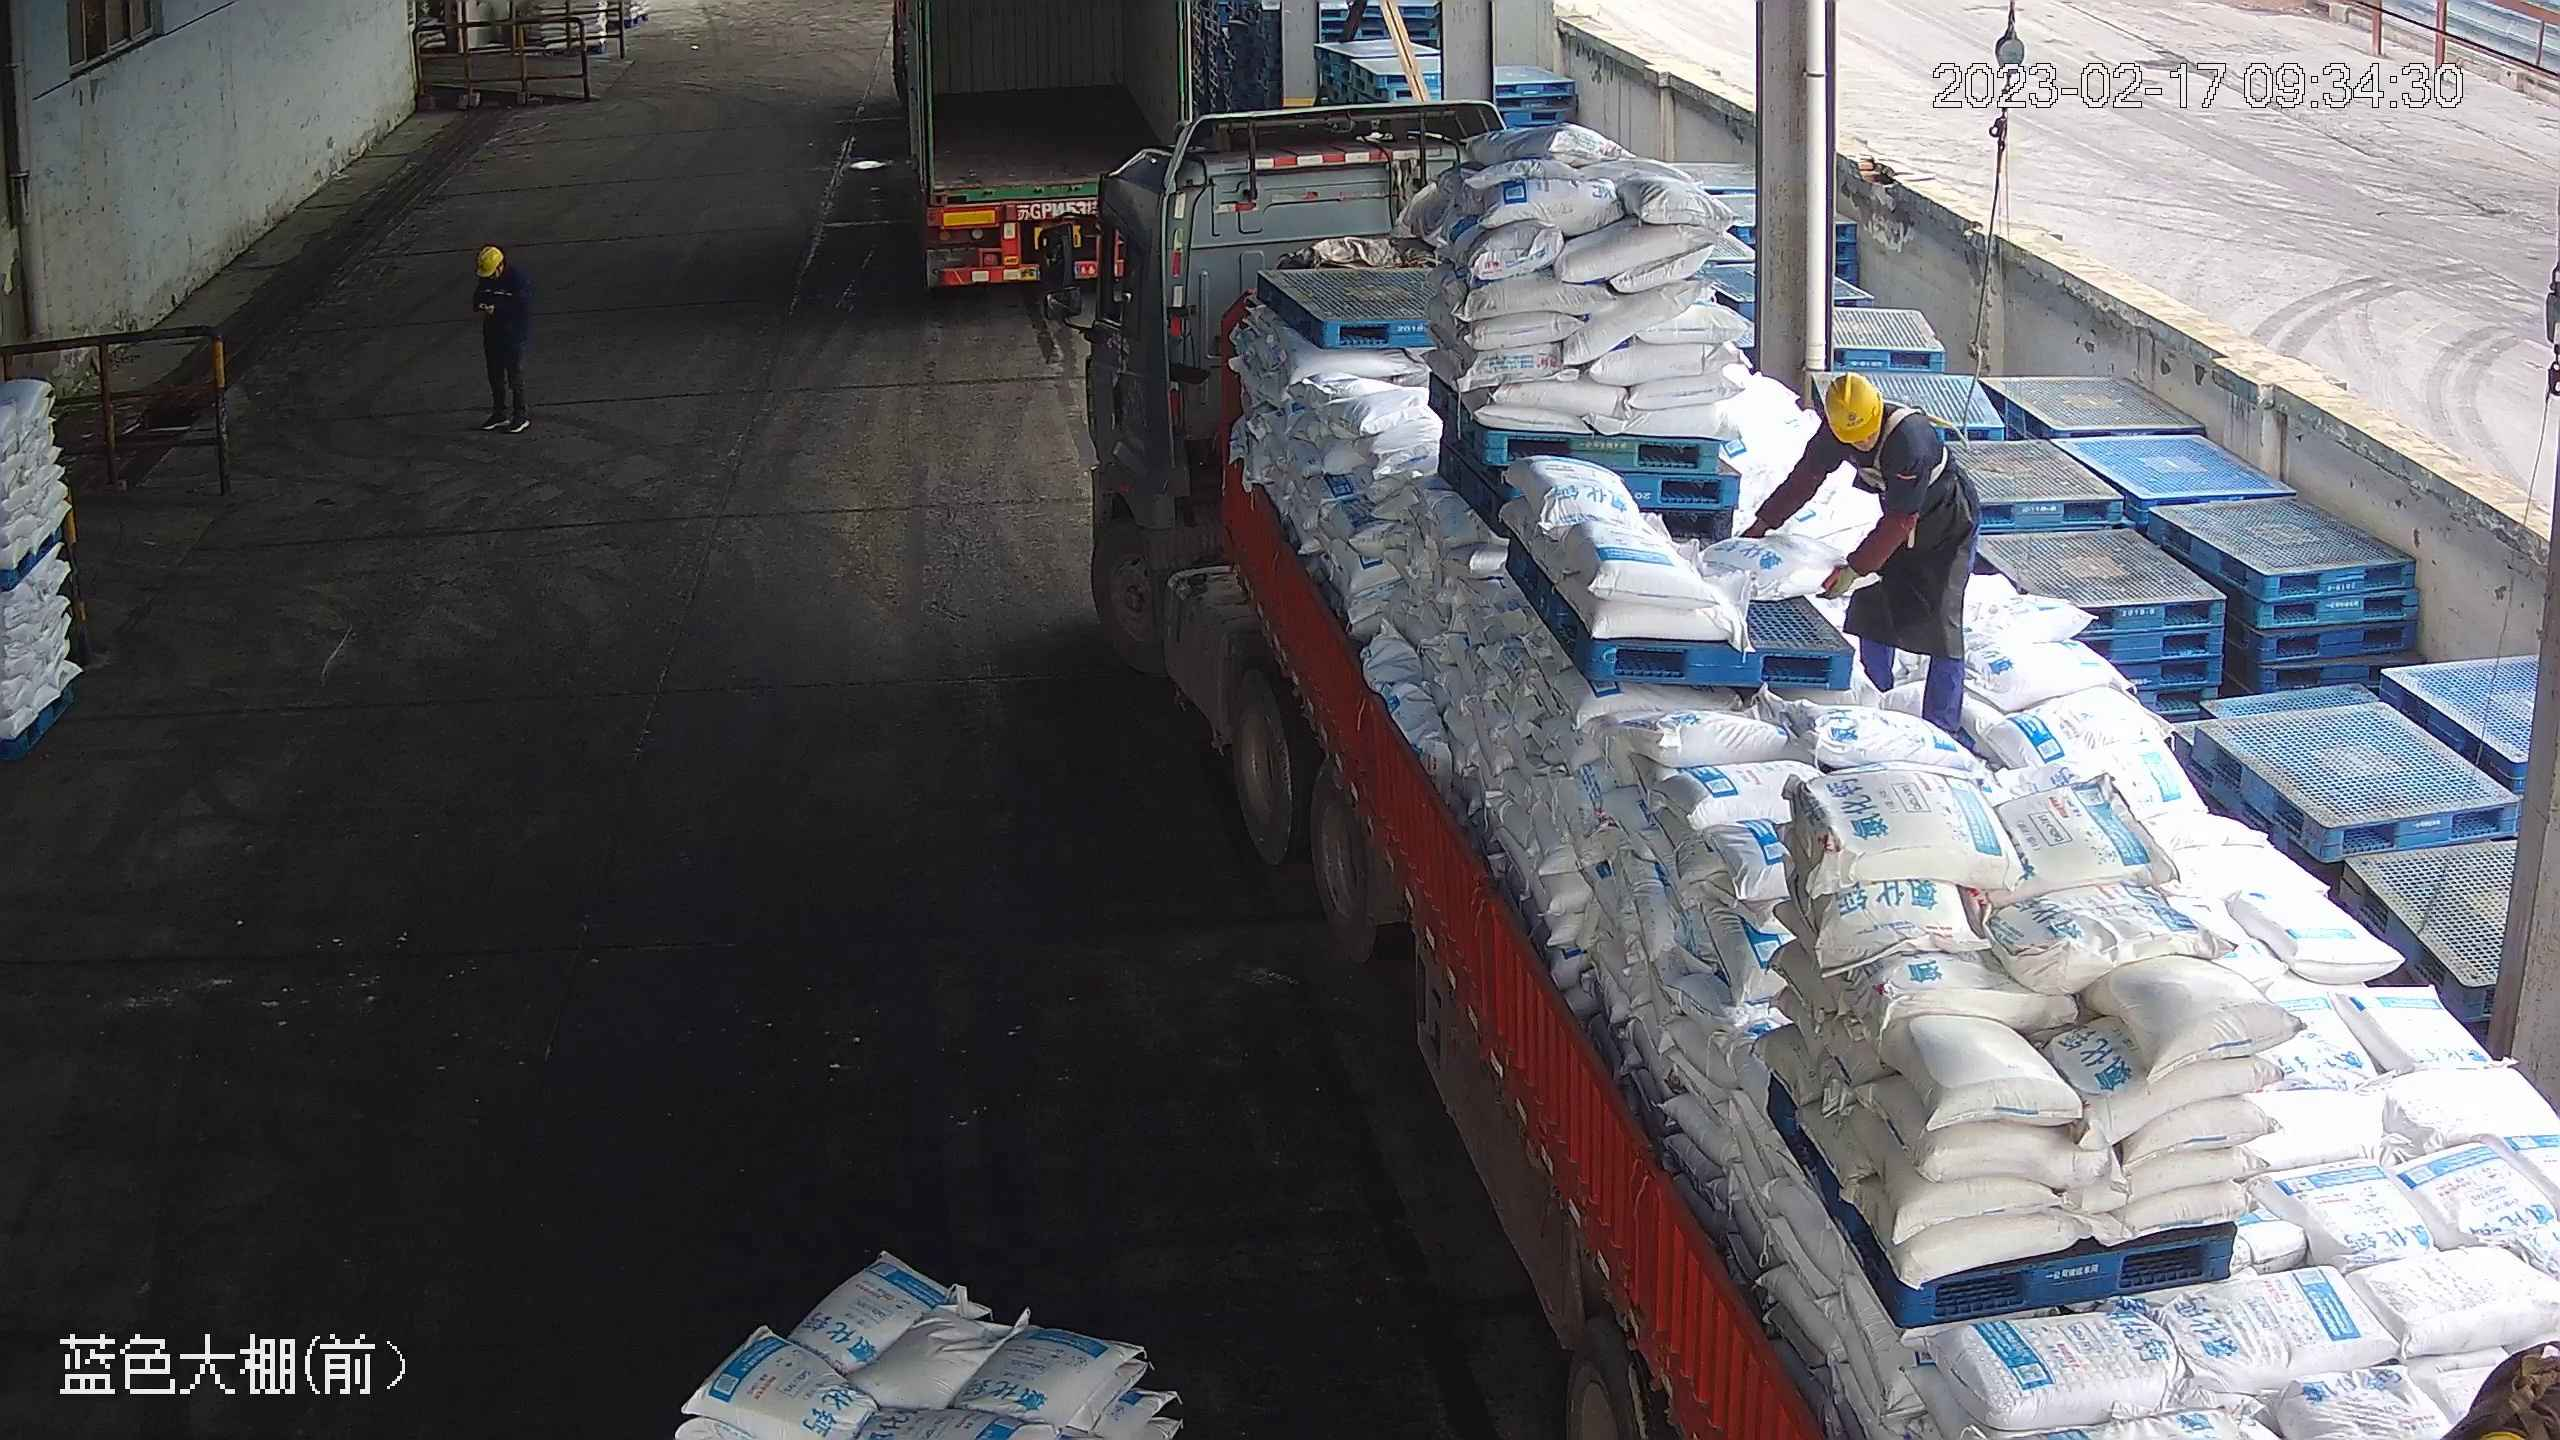belt: (1861, 404, 1955, 493)
head: (1812, 369, 1928, 473), (469, 246, 526, 302)
helmet: (1821, 370, 1885, 443), (473, 246, 503, 273)
people: (1748, 371, 1984, 724), (470, 244, 532, 435)
truck: (1046, 97, 2551, 1438), (884, 1, 1195, 293)
